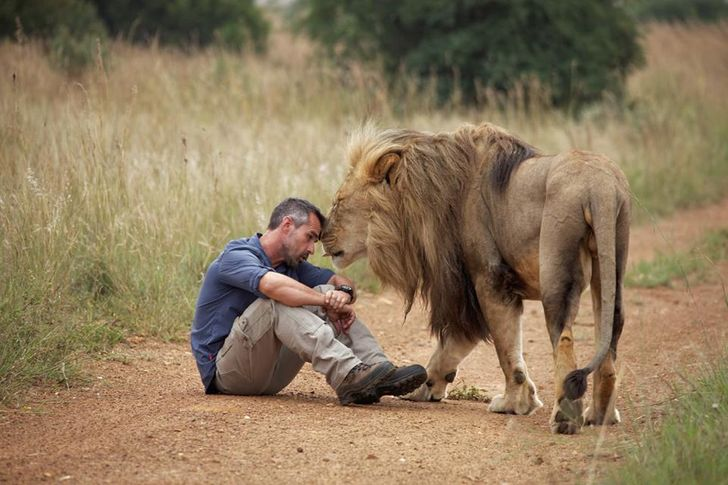person: (271, 198, 323, 270)
